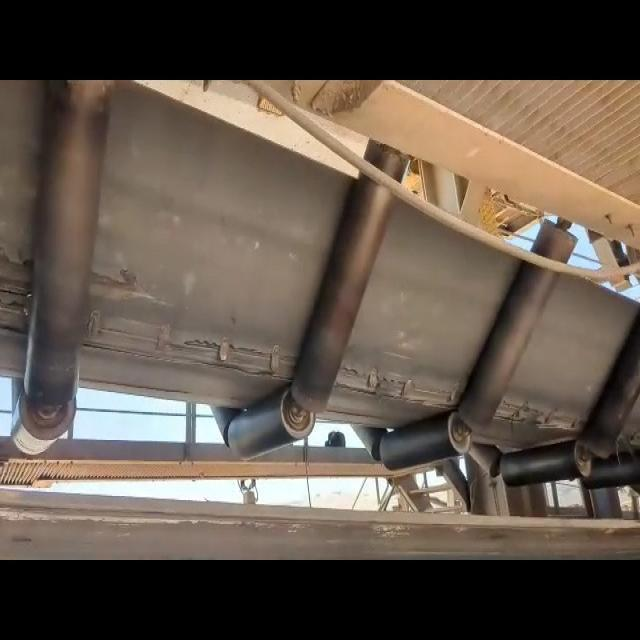Tear: (80, 312, 302, 392), (336, 342, 464, 413), (499, 387, 590, 440), (0, 250, 40, 341)
Wear: (83, 254, 172, 312)
